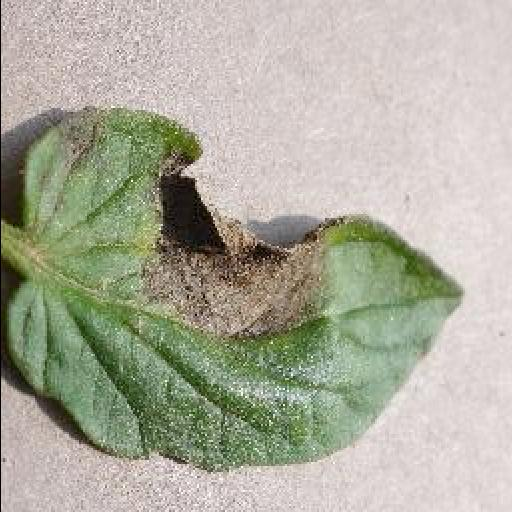disease_tomato: (0, 106, 470, 472)
